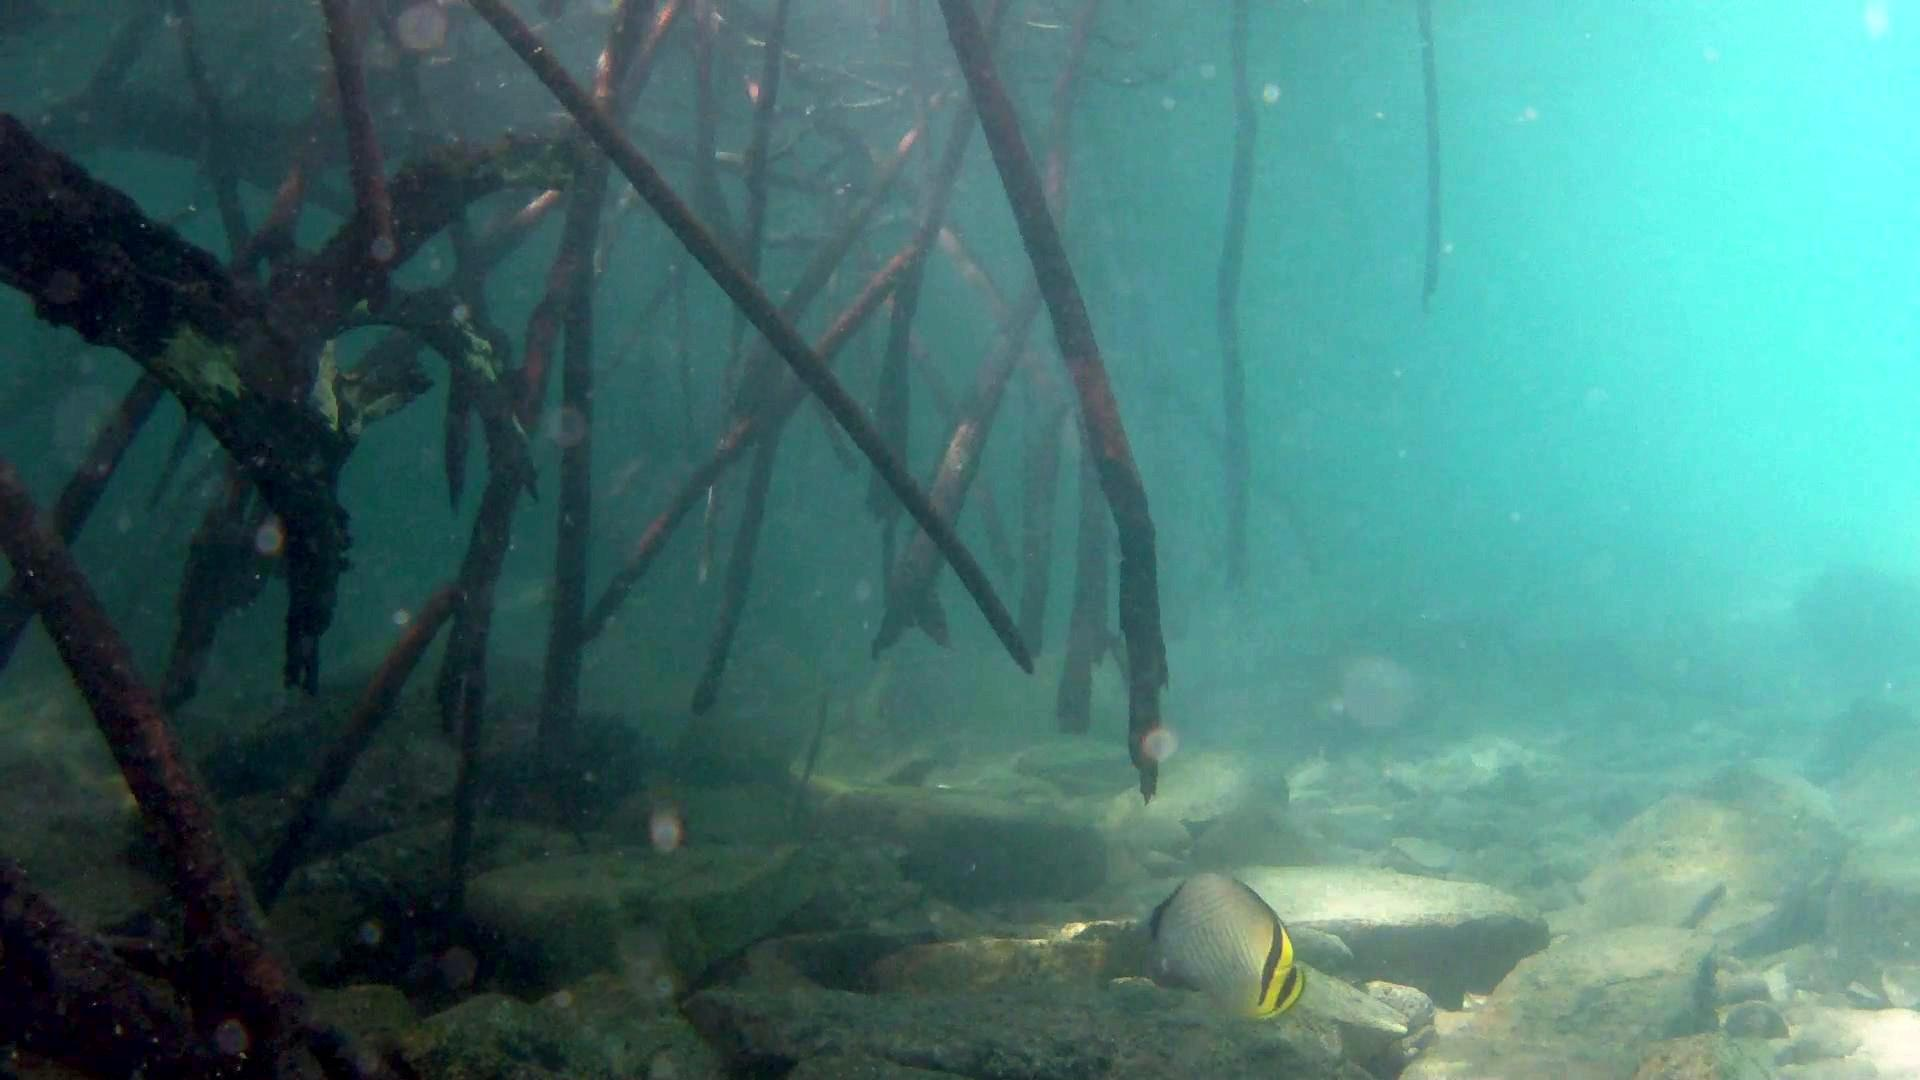chaetodon vagabundus: (1137, 865, 1312, 1027)
